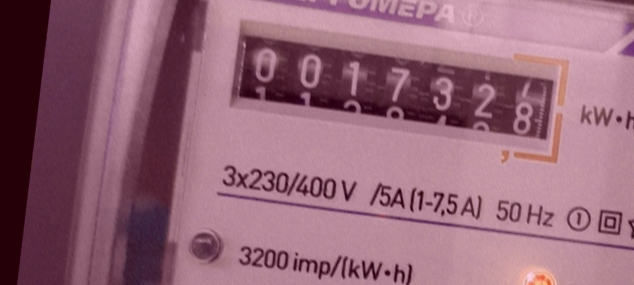0: (249, 43, 279, 86), (297, 50, 323, 91)
1: (341, 57, 363, 98)
2: (470, 81, 497, 120)
3: (429, 74, 455, 112)
7: (385, 64, 411, 105)
8: (510, 98, 533, 136)
screen: (215, 15, 580, 172)
